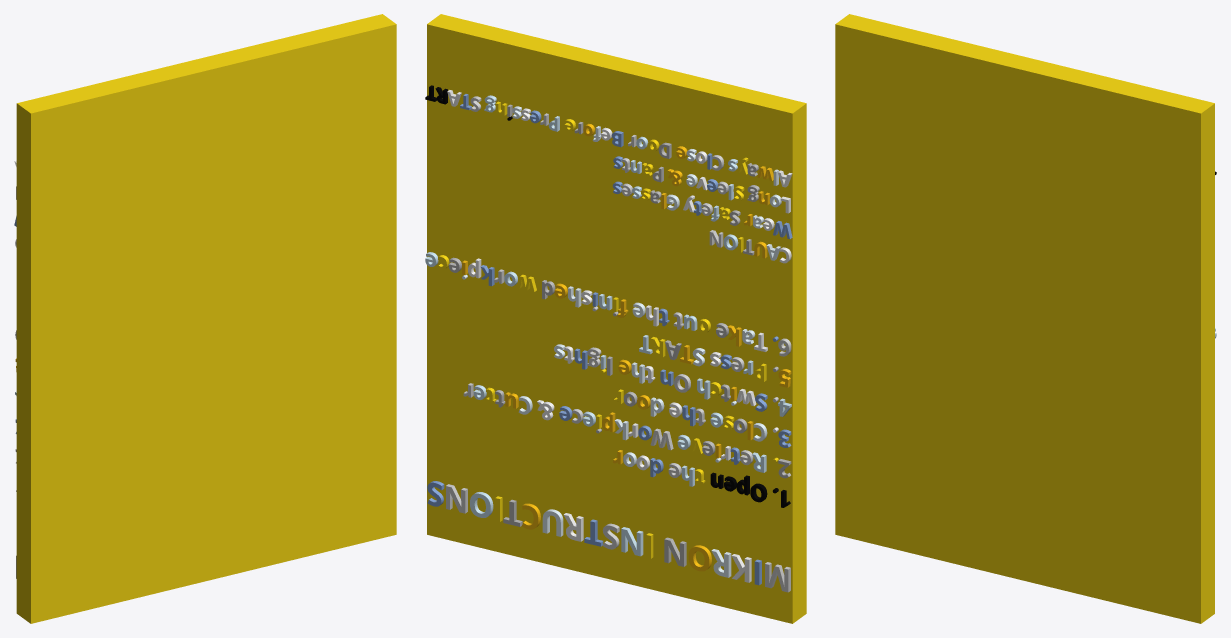
File: Instructions (2).fbx
3 views of the same model, side by side, from view 1: azimuth 30°, elevation 25°; view 2: azimuth 150°, elevation 25°; view 3: azimuth 330°, elevation 25° (orthographic).
Parts seen in each view (by area): view 1: imagetostl_mesh1; view 2: imagetostl_mesh1, imagetostl_mesh2, imagetostl_mesh4, imagetostl_mesh5, imagetostl_mesh3, imagetostl_mesh6, imagetostl_mesh8, imagetostl_mesh7, imagetostl_mesh0; view 3: imagetostl_mesh1.
Part boxes in pixels (left/top/right/bottom): imagetostl_mesh1: left=16, top=14, right=396, bottom=623; imagetostl_mesh1: left=427, top=14, right=806, bottom=623; imagetostl_mesh2: left=446, top=96, right=791, bottom=592; imagetostl_mesh4: left=425, top=95, right=791, bottom=556; imagetostl_mesh5: left=447, top=90, right=792, bottom=582; imagetostl_mesh3: left=427, top=94, right=792, bottom=585; imagetostl_mesh6: left=462, top=106, right=781, bottom=577; imagetostl_mesh8: left=462, top=123, right=791, bottom=571; imagetostl_mesh7: left=448, top=104, right=791, bottom=566; imagetostl_mesh0: left=425, top=85, right=790, bottom=507; imagetostl_mesh1: left=835, top=14, right=1214, bottom=623.
Bounding box in the file's own units: 7500 × 10000 × 590.
